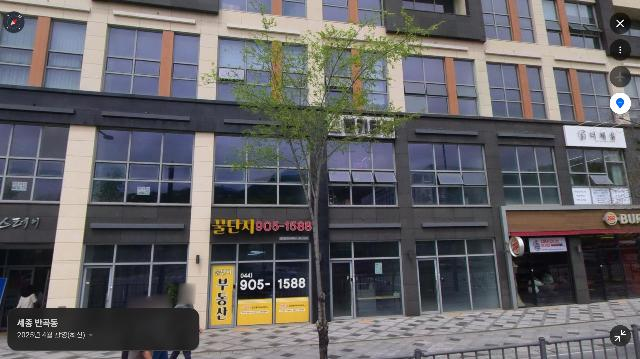other: (192, 0, 448, 359)
